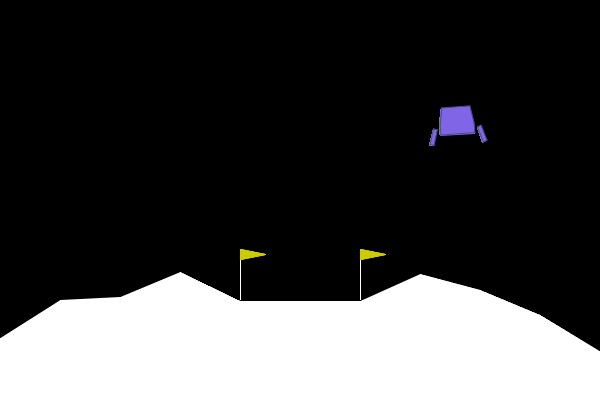lander: (425, 103, 488, 147)
